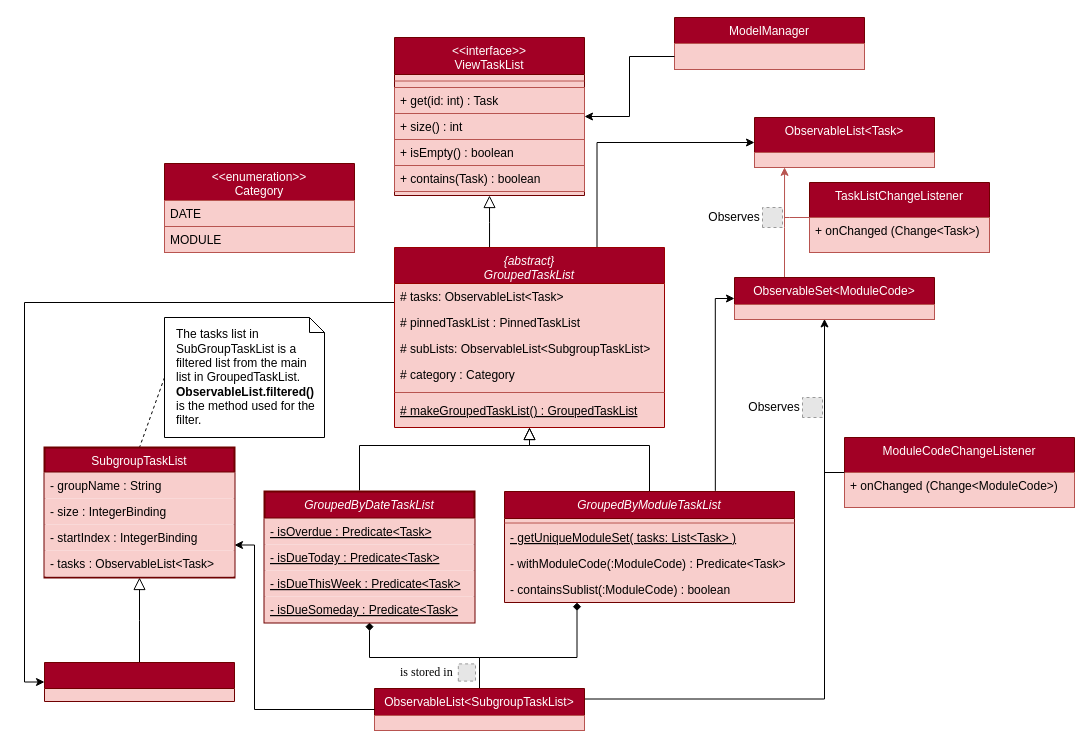
This 1092x748 diagram has some shape labels left out. Grey dashed boxes stand in for pictures. Here are the shapes that lost their labels. From the top down, the centre of each, then its label:
At pixel 769 56: "- lastShownList : ViewTaskList".
At pixel 139 682: "PinnedTaskList".
